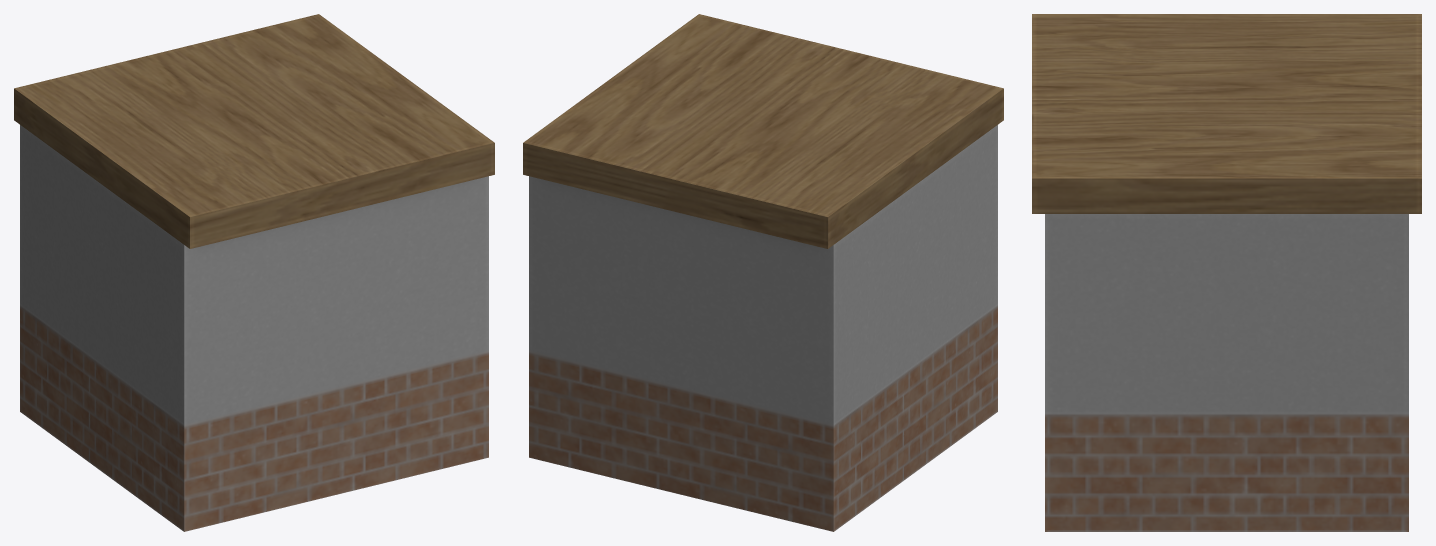
The model's file is sb_obj_outdoor028_house01_wall02.fbx.
3 views of the same model, side by side, from view 1: azimuth 30°, elevation 25°; view 2: azimuth 150°, elevation 25°; view 3: azimuth 270°, elevation 25° (orthographic). The views are drawn at different scales.
Visible parts, largest first — view 1: sb_obj_outdoor028_house01_wall02; view 2: sb_obj_outdoor028_house01_wall02; view 3: sb_obj_outdoor028_house01_wall02.
Part boxes in pixels (x1,y1,x2,y2): sb_obj_outdoor028_house01_wall02: (14, 14, 494, 531); sb_obj_outdoor028_house01_wall02: (523, 14, 1003, 531); sb_obj_outdoor028_house01_wall02: (1032, 14, 1421, 531).
Bounding box in the file's own units: 3 × 3 × 3.
1 material, 1 textured.
